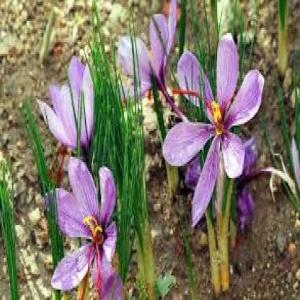Saffron: (164, 34, 266, 225), (51, 160, 126, 299), (38, 54, 99, 157), (113, 2, 177, 100)
